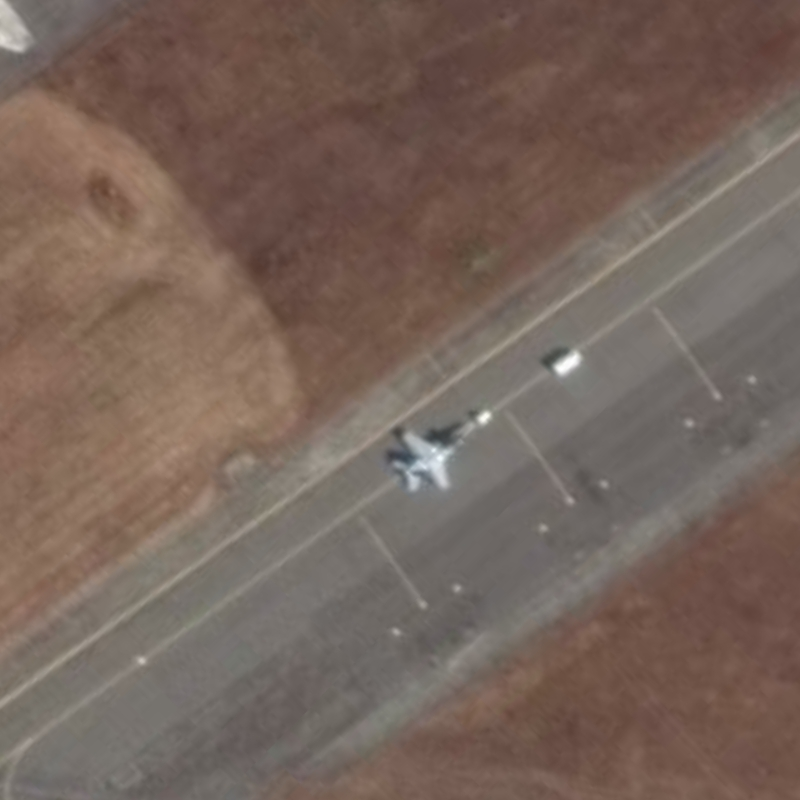A16: (379, 405, 484, 504)
